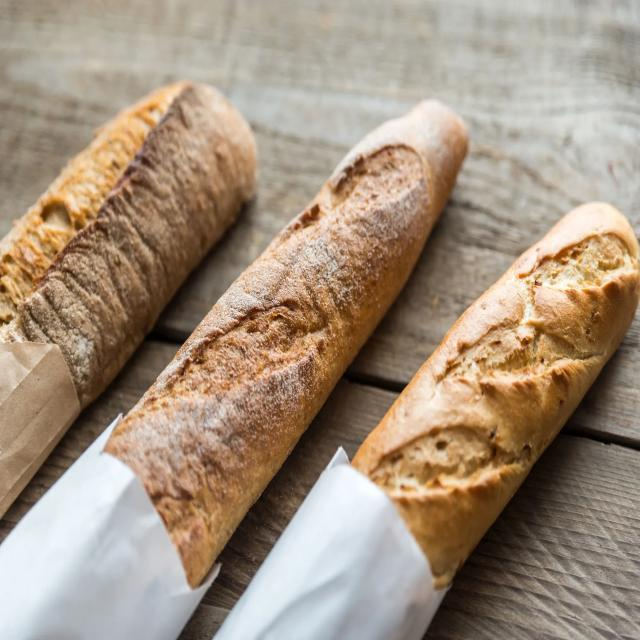Baguette: (105, 100, 469, 588), (352, 202, 640, 588), (0, 82, 256, 409), (514, 303, 517, 309)
